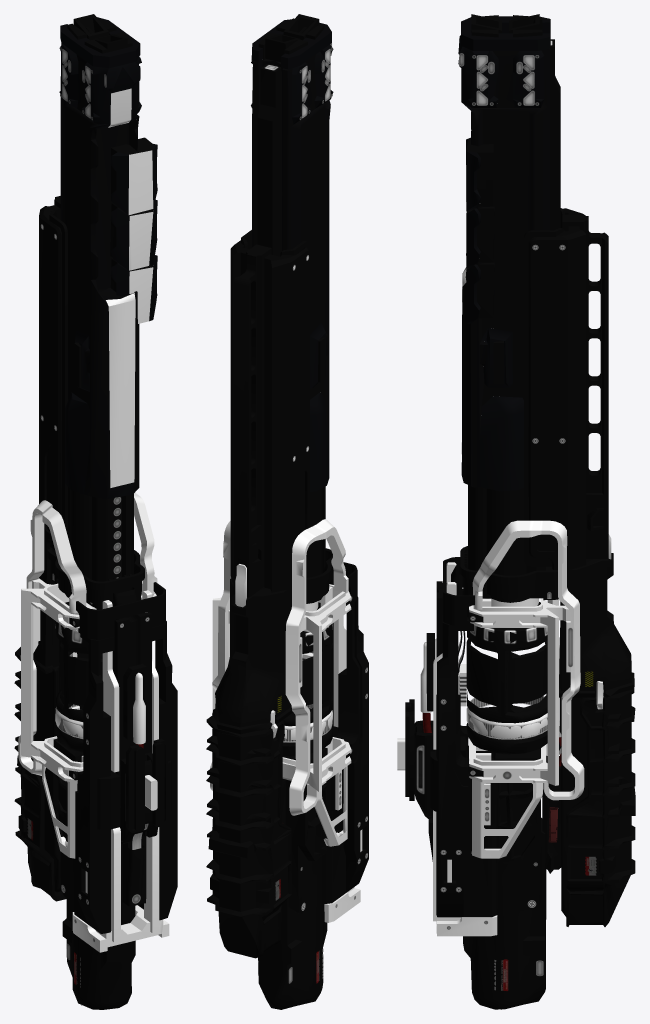
File: dominance-1-scattergun.glb
3 renders of one model, left to right at view 1: azimuth 30°, elevation 25°; view 2: azimuth 150°, elevation 25°; view 3: azimuth 270°, elevation 25°, orthographic.
Visible parts, largest first — view 1: base, barrel, hrst_las_sca_s1-3_bas\hrst_las_sca_s1_ven_1, hrst_las_sca_s1-3_pow\hrst_las_sca_s1_pow_1; view 2: base, hrst_las_sca_s1-3_bas\hrst_las_sca_s1_ven_1, barrel, hrst_las_sca_s1-3_pow\hrst_las_sca_s1_pow_1; view 3: base, hrst_las_sca_s1-3_bas\hrst_las_sca_s1_ven_1, barrel, hrst_las_sca_s1-3_pow\hrst_las_sca_s1_pow_1.
Boxes of the visible parts, <box> form: base: <box>18,14,177,1005</box>; barrel: <box>60,43,139,499</box>; hrst_las_sca_s1-3_bas\hrst_las_sca_s1_ven_1: <box>14,547,102,901</box>; hrst_las_sca_s1-3_pow\hrst_las_sca_s1_pow_1: <box>27,738,146,1009</box>; base: <box>210,14,368,983</box>; hrst_las_sca_s1-3_bas\hrst_las_sca_s1_ven_1: <box>206,578,292,958</box>; barrel: <box>252,54,330,478</box>; hrst_las_sca_s1-3_pow\hrst_las_sca_s1_pow_1: <box>258,696,337,1009</box>; base: <box>397,14,611,1009</box>; hrst_las_sca_s1-3_bas\hrst_las_sca_s1_ven_1: <box>542,553,635,926</box>; barrel: <box>461,48,550,487</box>; hrst_las_sca_s1-3_pow\hrst_las_sca_s1_pow_1: <box>460,671,596,1009</box>.
Bounding box in the file's own units: 0.1866 × 1.58 × 0.3493.
Materials: 20 (11 with a texture image).
